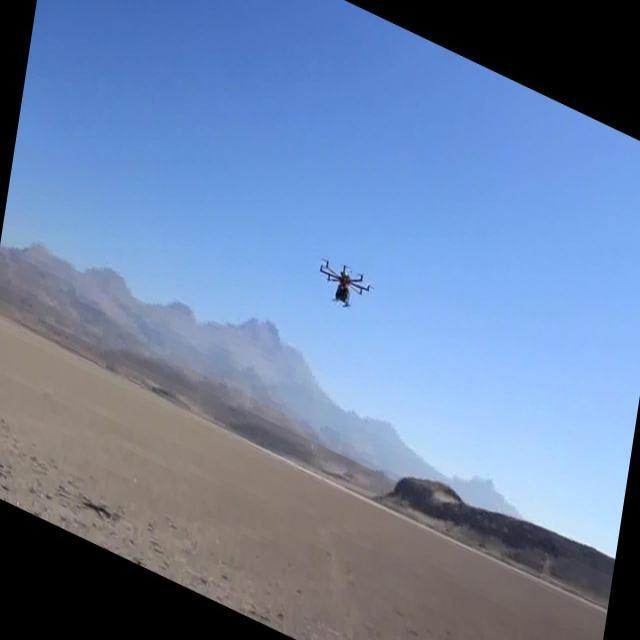drone: (312, 251, 378, 328)
